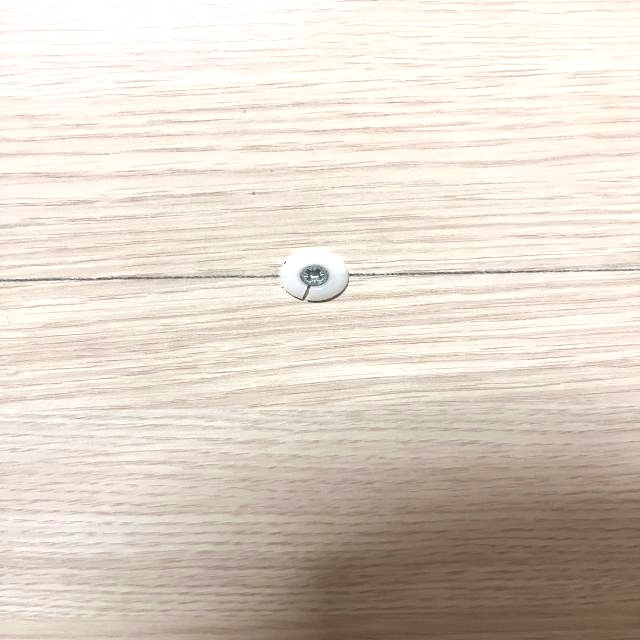pozidriv: (299, 264, 329, 286)
